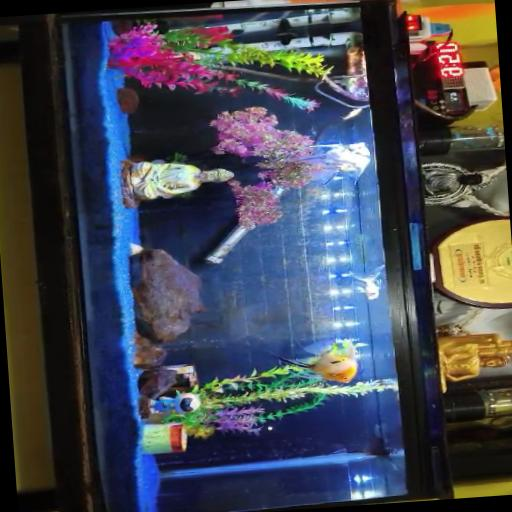Fish: (271, 141, 370, 177), (274, 339, 357, 381), (353, 264, 383, 298), (489, 66, 500, 91), (340, 107, 361, 119)
